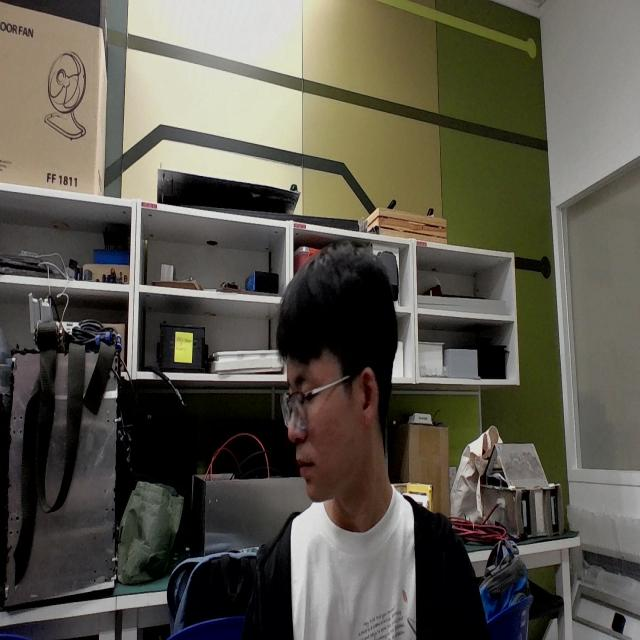Without Helmet: (253, 217, 446, 548)
